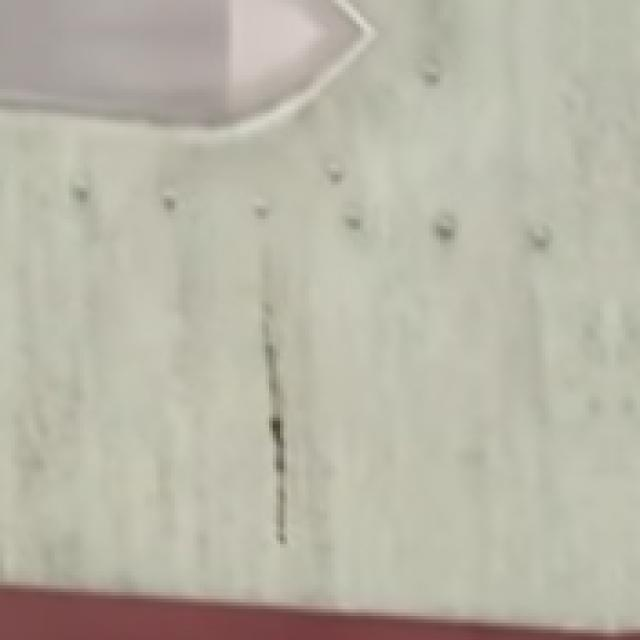crack: (222, 298, 324, 555)
